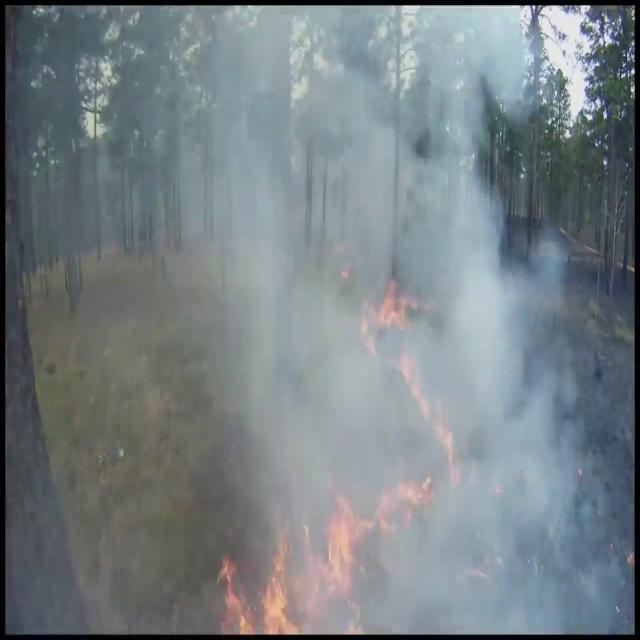Fire: (235, 456, 421, 622), (366, 272, 452, 464)
Smoke: (168, 0, 612, 626)
